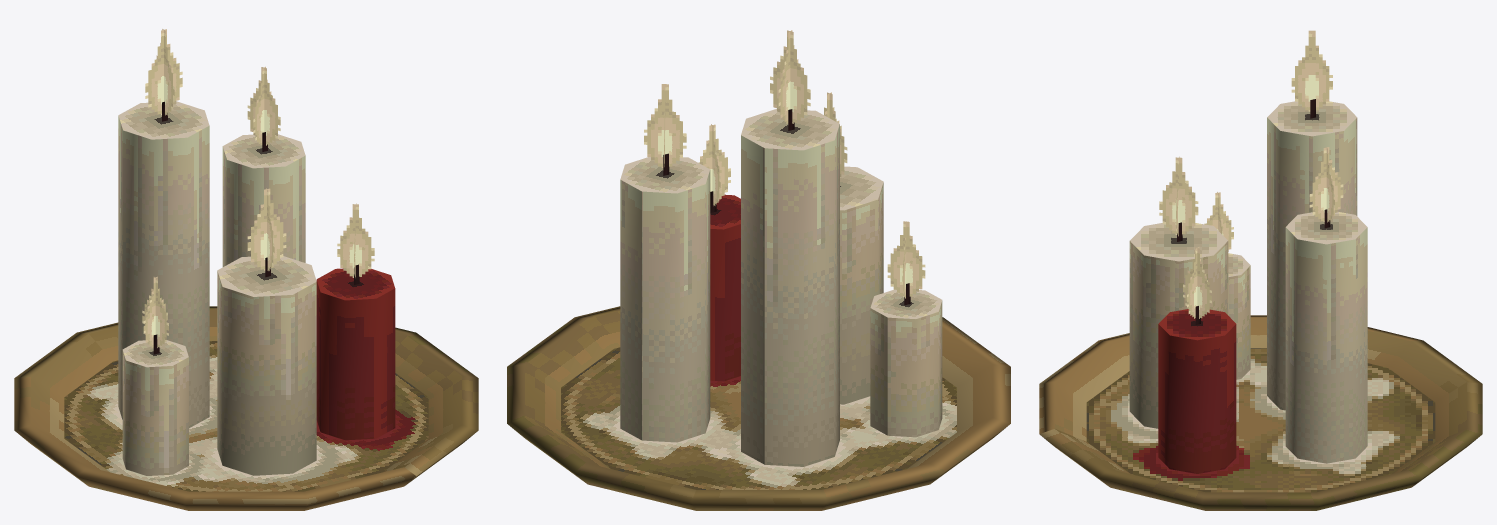
The model's file is candles_cluster.glb.
3 renders of one model, left to right at view 1: azimuth 30°, elevation 25°; view 2: azimuth 150°, elevation 25°; view 3: azimuth 270°, elevation 25°, orthographic. The views are drawn at different scales.
Visible parts, largest first — view 1: candles_cluster; view 2: candles_cluster; view 3: candles_cluster.
Part boxes in pixels (x1=…): candles_cluster: x1=14, y1=29, x2=478, y2=510; candles_cluster: x1=507, y1=30, x2=1010, y2=510; candles_cluster: x1=1039, y1=30, x2=1482, y2=510.
Size of the model in its own units: 0.2164 by 0.211 by 0.2164.
2 materials, 2 textured.
